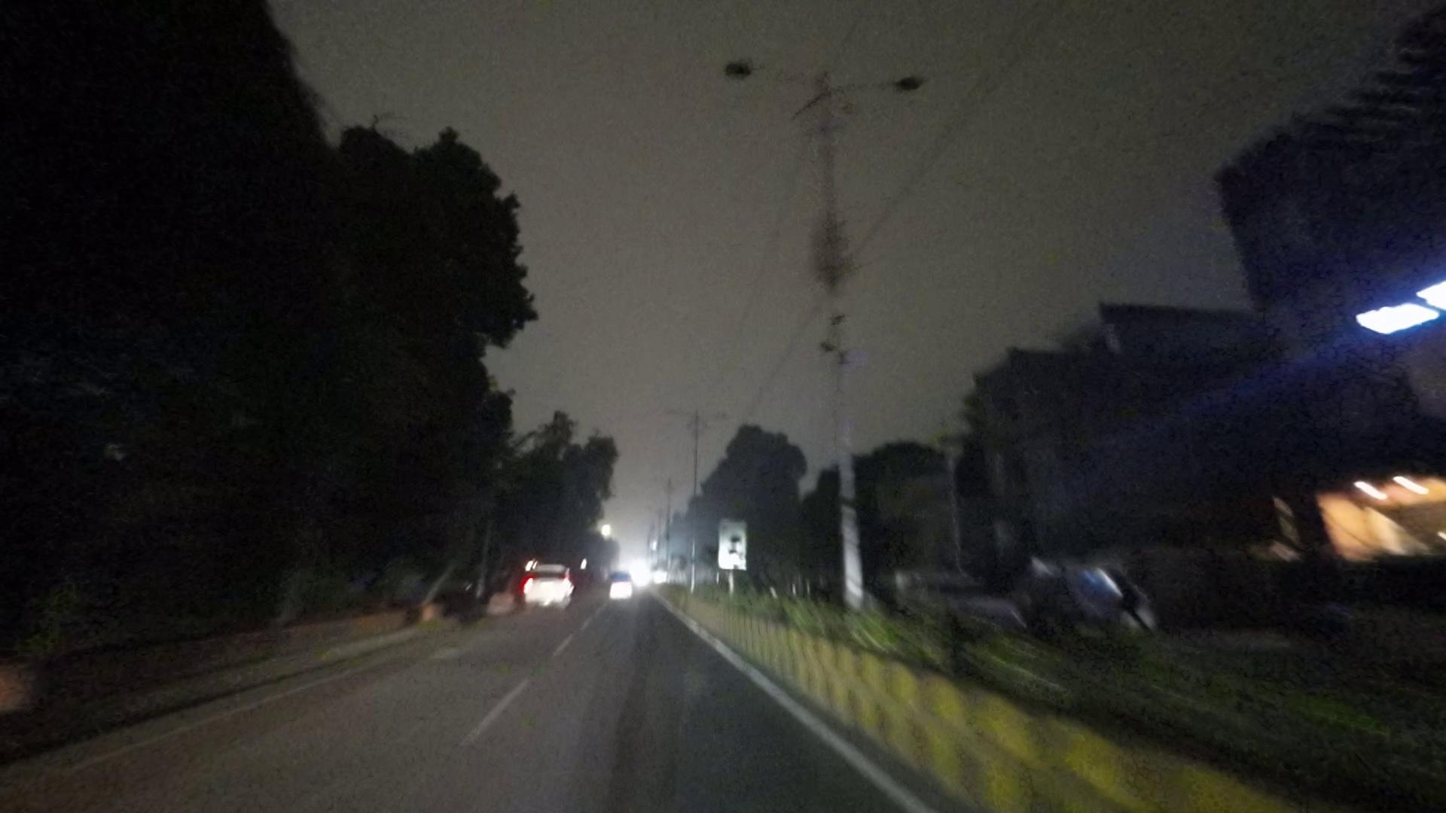streetlight: (717, 54, 818, 91), (835, 69, 930, 95)
